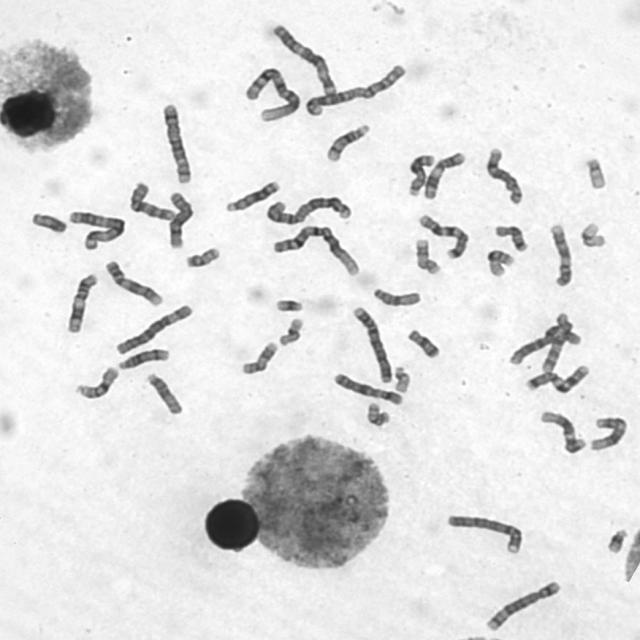A1: (269, 220, 362, 278), (240, 64, 302, 123)
A2: (302, 60, 408, 118), (262, 193, 353, 226)
A3: (267, 20, 340, 97), (64, 207, 126, 251)
B4: (348, 302, 394, 384), (442, 511, 524, 556)
B5: (482, 577, 562, 633), (158, 99, 194, 185)
C10: (538, 310, 574, 374), (125, 179, 175, 223)
C11: (420, 148, 468, 200), (63, 270, 99, 334)
C12: (536, 408, 587, 456), (588, 413, 628, 452)
C6: (112, 301, 194, 356), (505, 323, 582, 367)
C7: (414, 211, 471, 261), (522, 362, 591, 395)
C8: (482, 144, 525, 206), (164, 188, 194, 250)
C9: (101, 258, 163, 308), (545, 220, 574, 289)
D13: (222, 177, 282, 213), (403, 151, 436, 198)
D14: (322, 121, 372, 163), (113, 346, 170, 371)
D15: (142, 370, 184, 416), (368, 284, 422, 308)
E16: (71, 363, 120, 400), (483, 246, 516, 278)
E17: (237, 338, 279, 377), (411, 236, 442, 276)
E18: (403, 326, 441, 359), (491, 222, 530, 253)
F19: (577, 219, 609, 249), (277, 317, 304, 347)
F20: (182, 244, 221, 269), (364, 402, 391, 428)
G21: (603, 525, 630, 555), (271, 295, 305, 314)
G22: (582, 154, 608, 191), (390, 362, 412, 394)
X: (330, 370, 405, 407)
Y: (27, 209, 68, 235)
